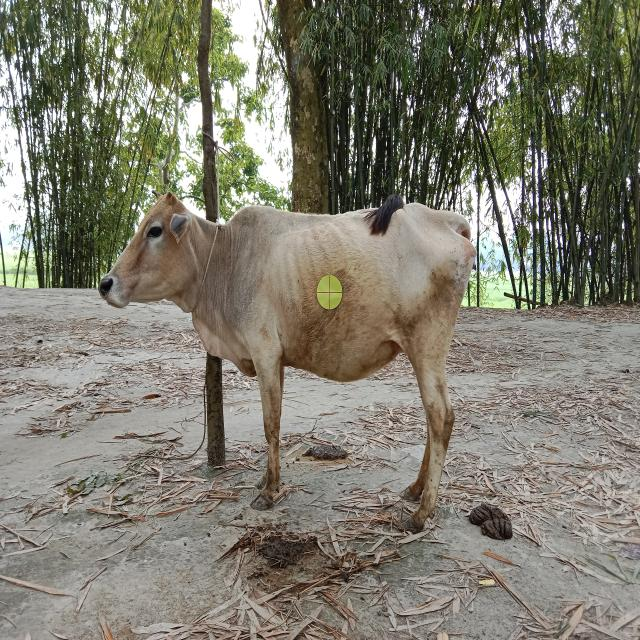badan_sapi: (231, 215, 471, 382)
sapi: (100, 183, 478, 539)
